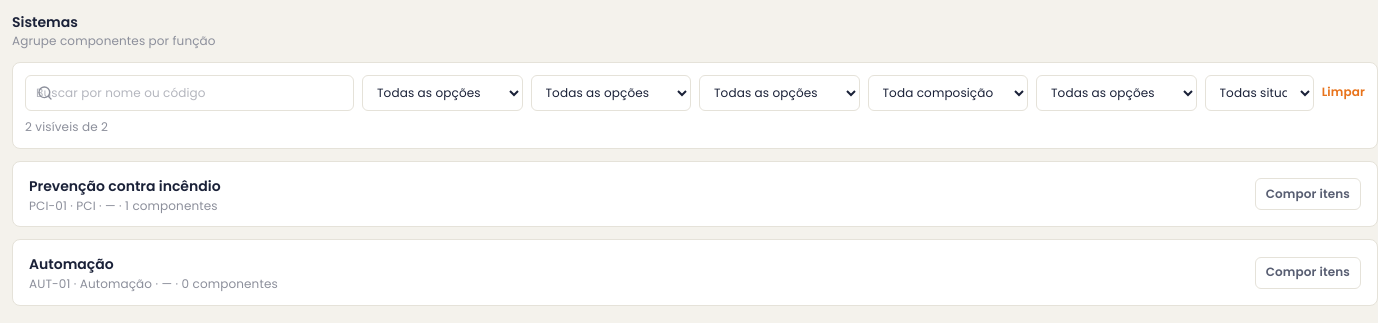
Scenario: PainelSistemasCliente — filtros do Cliente 360 › filtra pela composição, comunica a contagem e permite limpar
The width and height of the screenshot is (1378, 323).
expect the button "Prevenção contra incêndio" is shown: met, box [29,176,221,197]
expect the button "Automação" is shown: met, box [29,254,114,275]
Select "Sem itens" in the dropdown named "Filtrar sistemas por Composição" at (948, 93), box [868,75,1028,111]
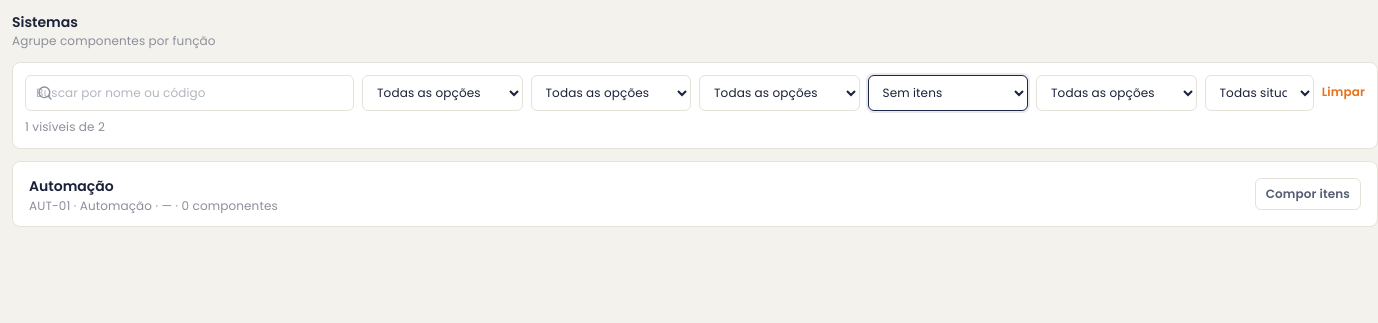
expect the button "Automação" is shown: met, box [29,176,114,197]
expect the button "Prevenção contra incêndio" is gone: met
expect the text "1 visíveis de 2" is shown: met, box [25,118,105,135]
Click the button "Limpar".
click(1343, 93)  # box [1322,84,1365,101]
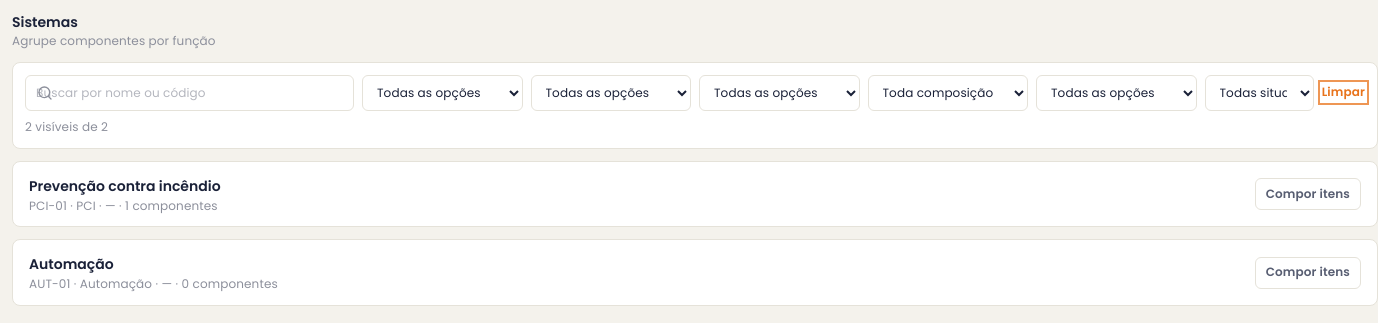
expect the button "Prevenção contra incêndio" is shown: met, box [29,176,221,197]
expect the text "2 visíveis de 2" is shown: met, box [25,118,108,135]
